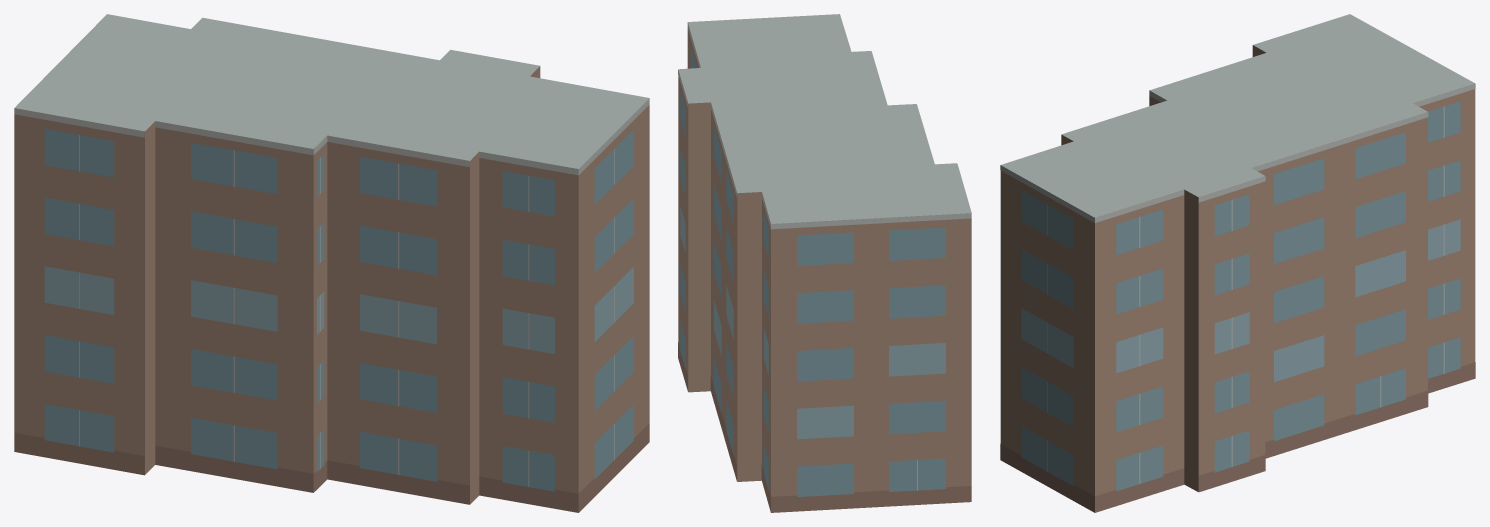
The model's file is survey-upis-32585064.glb.
The picture shows the model from 3 angles, left to right: view 1: azimuth 30°, elevation 25°; view 2: azimuth 150°, elevation 25°; view 3: azimuth 270°, elevation 25°; orthographic projection. The views are drawn at different scales.
Parts seen in each view (by area): view 1: survey-upis-32585064.tmp; view 2: survey-upis-32585064.tmp; view 3: survey-upis-32585064.tmp.
Part boxes in pixels (box(x1,y1,x2,y2)): survey-upis-32585064.tmp: box(14, 14, 649, 512); survey-upis-32585064.tmp: box(678, 14, 971, 512); survey-upis-32585064.tmp: box(1000, 14, 1475, 512).
Bounding box in the file's own units: 19.86 × 13.4 × 19.56.
